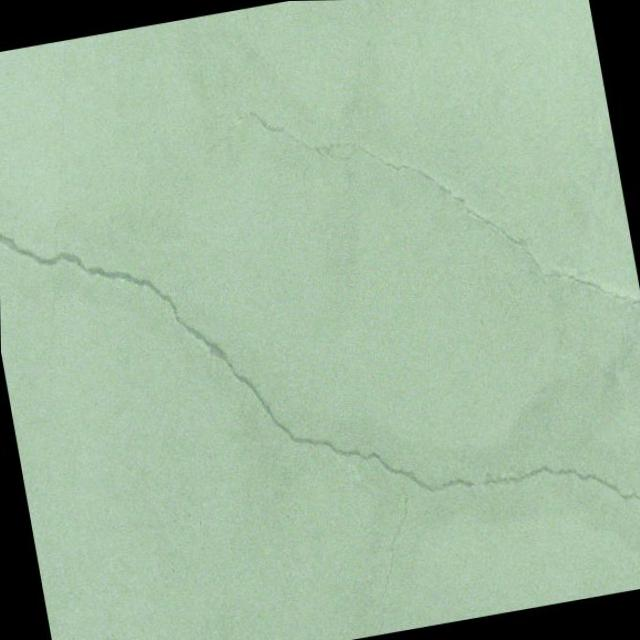crack: (0, 103, 640, 640), (179, 0, 640, 374)
